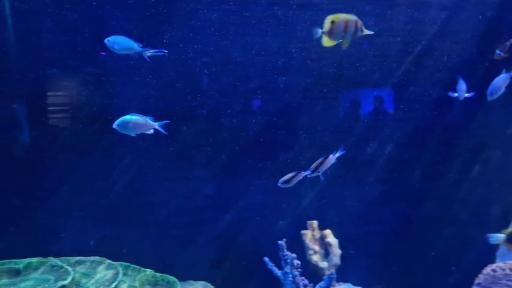Fish: (314, 14, 373, 49), (104, 36, 167, 61), (307, 147, 345, 180), (113, 114, 169, 136), (487, 224, 511, 262), (487, 70, 511, 100), (449, 77, 474, 99), (279, 171, 310, 187), (493, 40, 512, 59)
